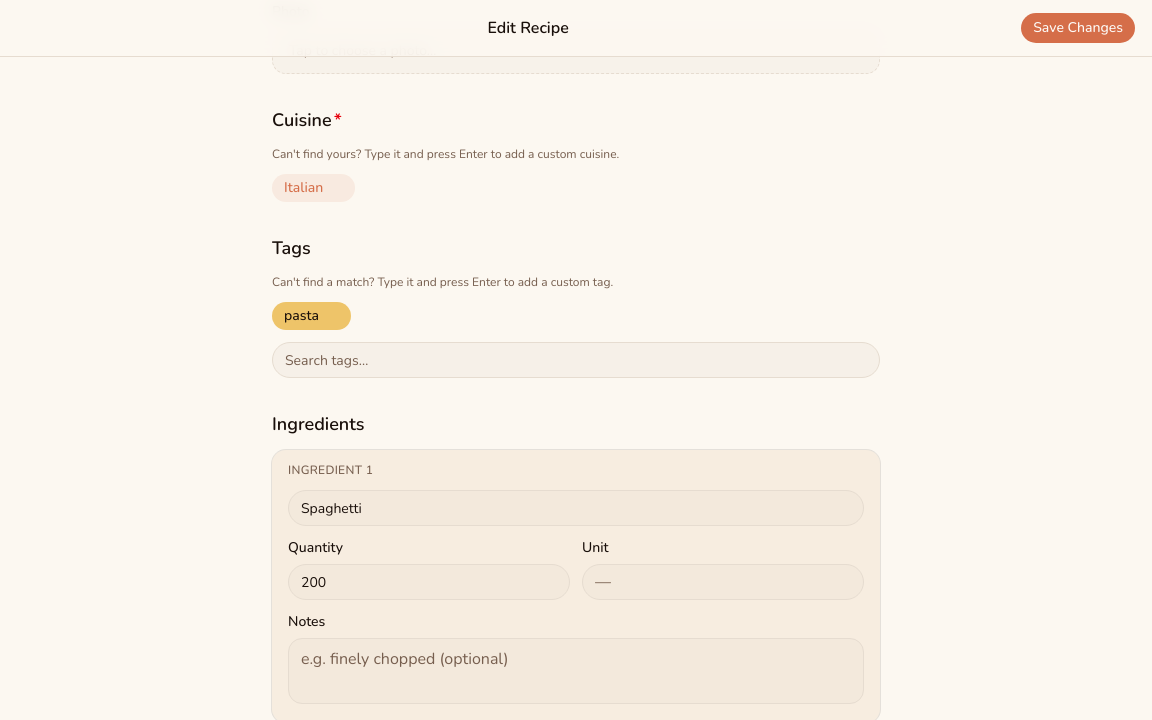
Scenario: EditRecipeForm › tags › adds a custom tag chip when Enter is pressed in the tag input
(page scrolled)
Type "weeknight" into the field with placeholder "Search tags…" at (576, 360), box [272,342,880,378]
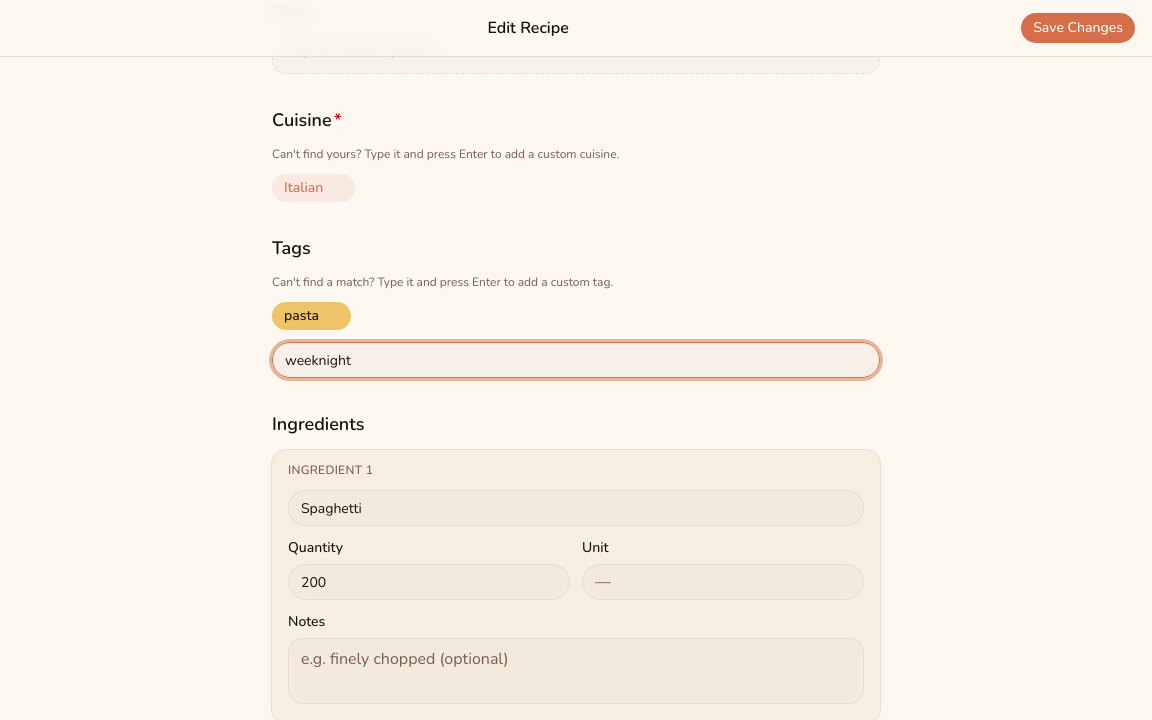
Press Enter
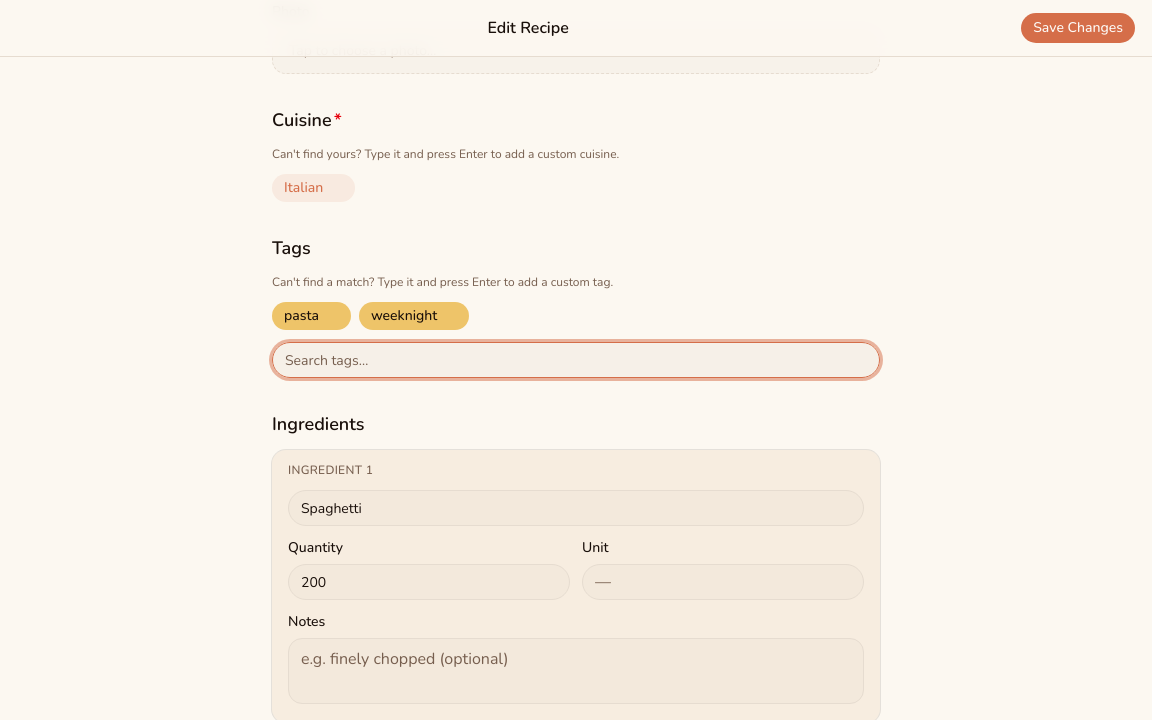
Result: the text "weeknight" is shown at [359,302,469,330]
